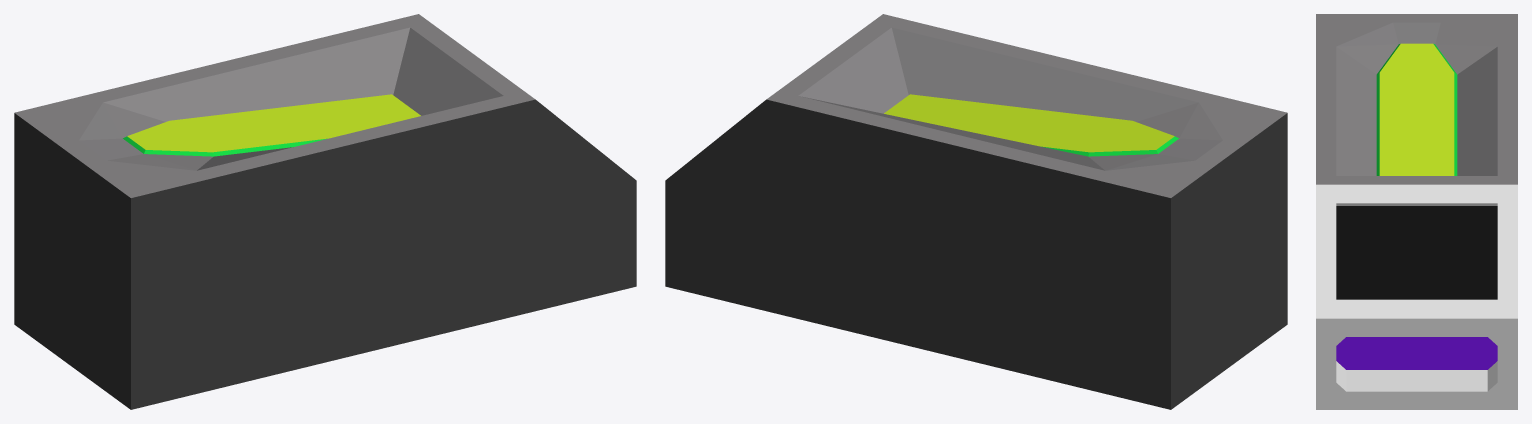
File: PlatformBorder00_1.fbx
3 renders of one model, left to right at view 1: azimuth 30°, elevation 25°; view 2: azimuth 150°, elevation 25°; view 3: azimuth 270°, elevation 25°, orthographic. The views are drawn at different scales.
Parts seen in each view (by area): view 1: PlatformBorder00_1; view 2: PlatformBorder00_1; view 3: PlatformBorder00_1.
Boxes of the visible parts, x1,y1,x2,y2 form: PlatformBorder00_1: (14,14,636,409); PlatformBorder00_1: (665,14,1287,409); PlatformBorder00_1: (1316,14,1517,409).
Size of the model in its own units: 250 by 100 by 100.
